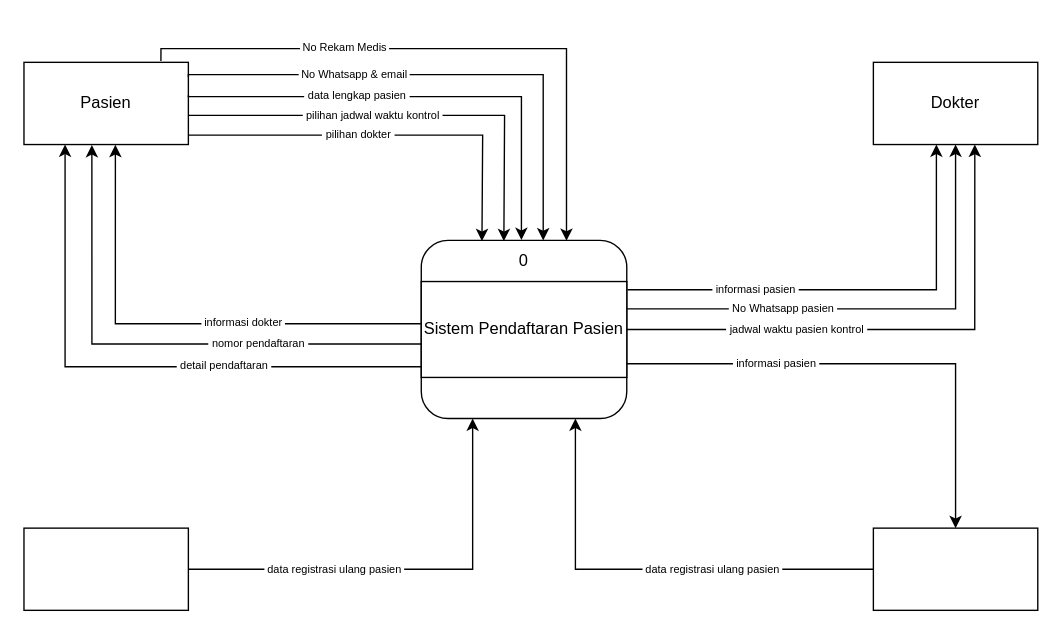
Image size: 1062x634. Some labels were removed from this diagram. Each missing label, with the centre of its shape:
Mesin APM: the point at 105,568
Petugas Loket Pendaftaran: the point at 955,568
